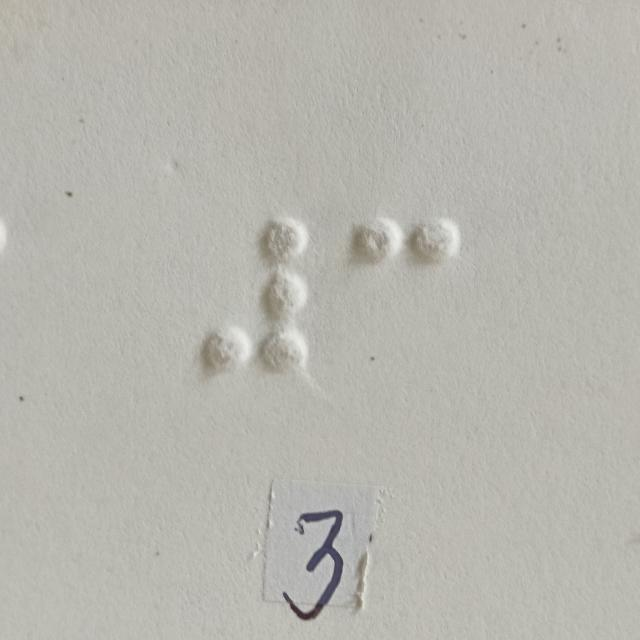digit_3: (347, 213, 461, 381)
number_sign: (199, 212, 312, 381)
